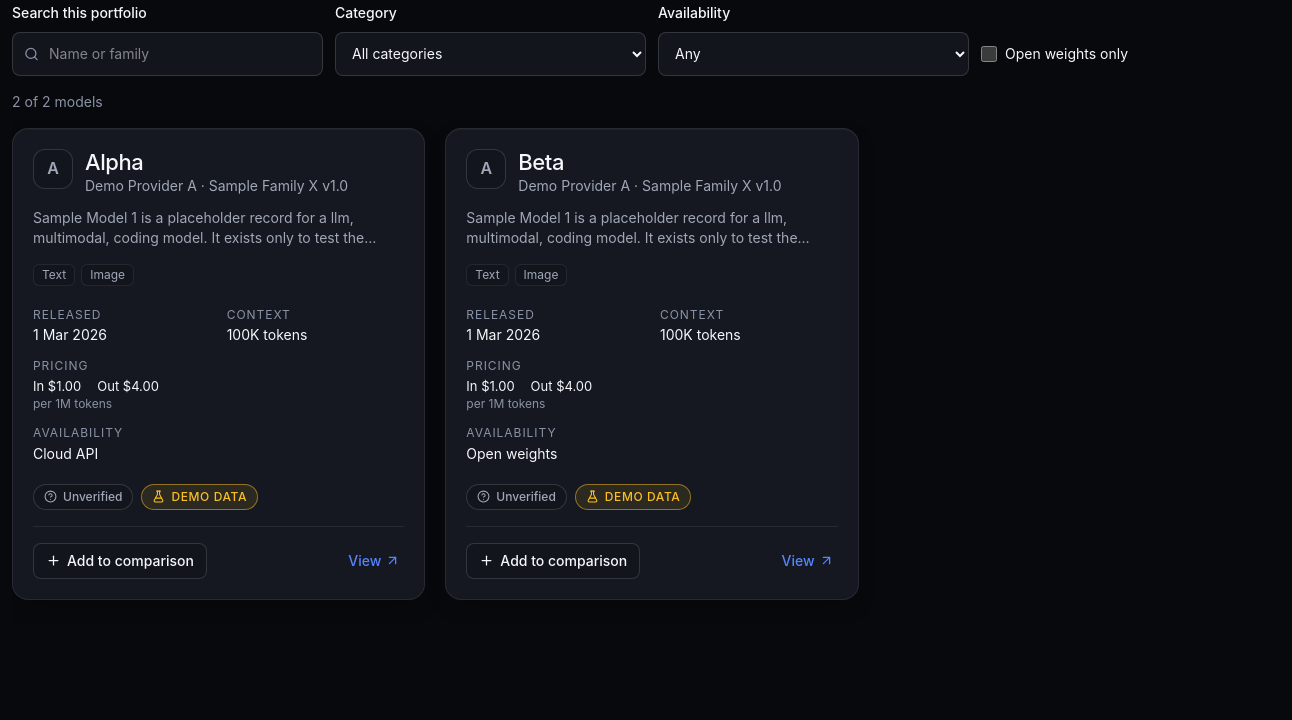
it: Portfolio › says so when nothing matches
Type "zzz" into the search field labelled "Search this portfolio" at (168,54), box 12,32 -> 323,76
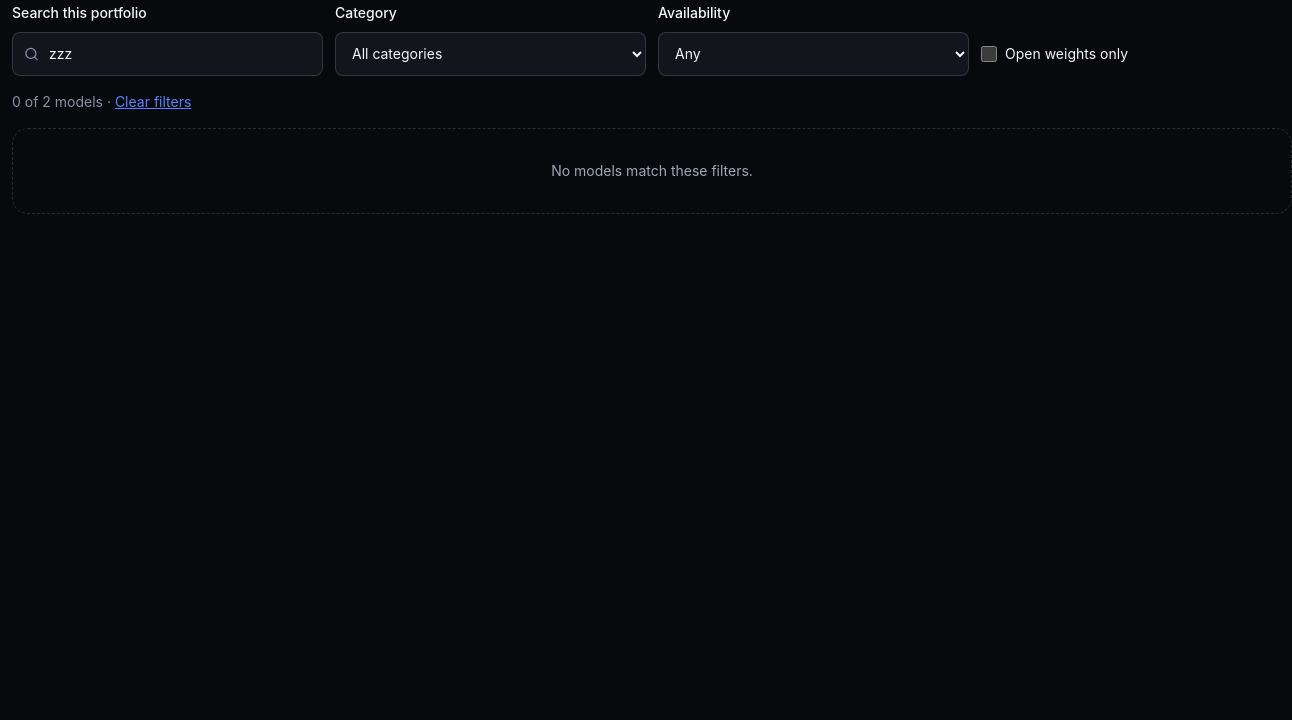
expect the text "No models match these filters." is shown: met, box 12,128 -> 1291,214
